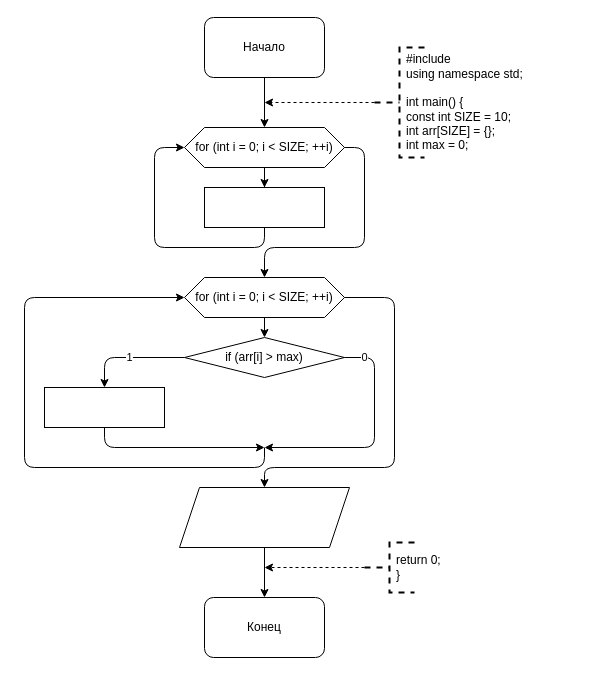
Some shapes in this 602 by 675 pixel diagram are drawn without their labels. The shapes that lost their labels are listed below. From the top down, each one's centre as x and y in pixels, then its label:
pixel 264 207: arr[i] = rand() % 100;
pixel 104 407: max = arr[i];
pixel 264 517: cout << "Max element: " << max << endl;
